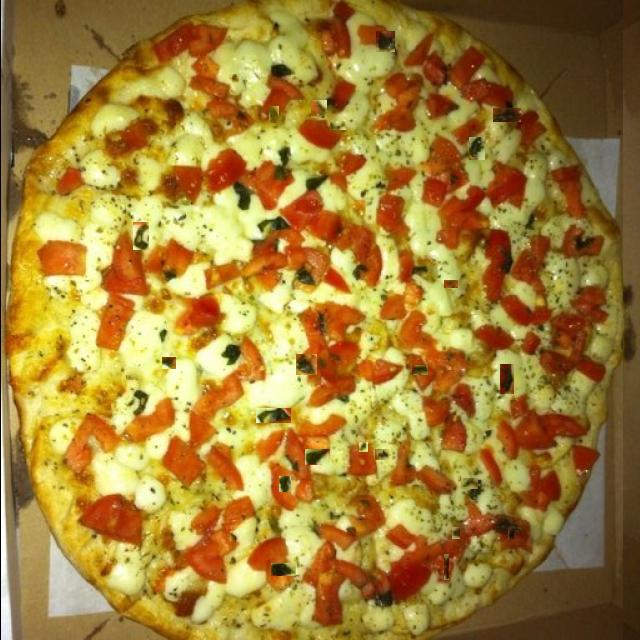basil: (255, 408, 290, 423), (232, 430, 250, 459), (132, 222, 148, 250), (295, 354, 316, 375), (499, 364, 513, 394), (220, 275, 240, 296), (304, 449, 329, 465), (375, 31, 394, 52), (492, 108, 520, 122), (468, 137, 484, 160), (468, 137, 484, 160), (574, 391, 596, 406), (270, 563, 295, 576), (351, 359, 368, 378), (310, 100, 326, 118), (524, 410, 538, 427), (284, 168, 296, 186), (274, 460, 289, 473), (278, 476, 290, 492), (460, 478, 477, 489), (268, 106, 278, 123), (161, 357, 175, 369), (411, 365, 427, 375), (374, 449, 388, 460), (329, 121, 345, 130), (156, 297, 166, 311), (443, 554, 448, 580), (346, 104, 358, 114), (316, 310, 324, 324), (443, 280, 457, 288), (482, 201, 492, 211), (451, 527, 459, 539), (358, 442, 367, 452), (228, 74, 238, 83), (337, 238, 349, 245), (507, 530, 513, 539), (338, 162, 346, 168)
pizza: (0, 0, 622, 640)
